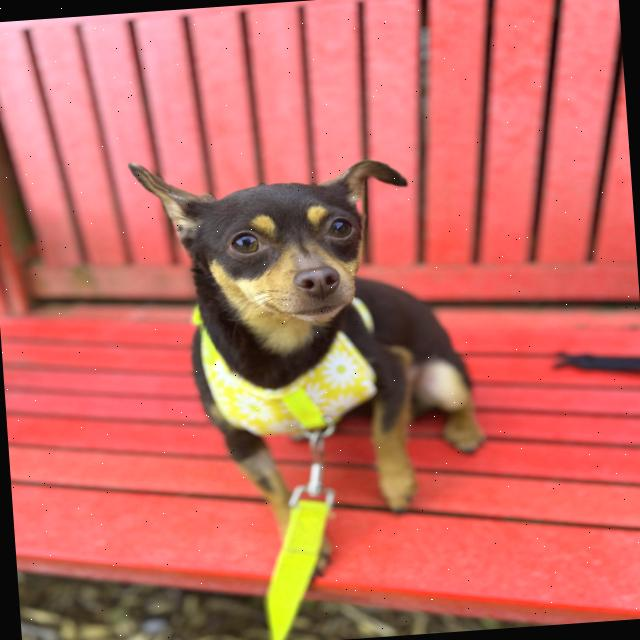chihuahua_dog: (114, 127, 438, 363)
